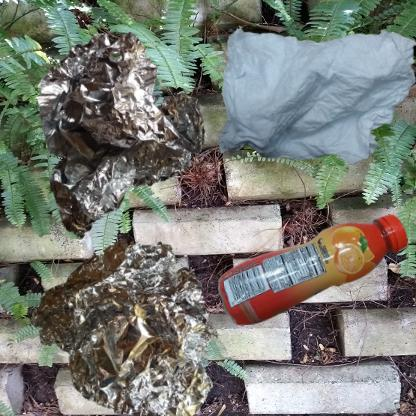aluminio: (10, 10, 240, 259), (10, 213, 256, 416)
botella: (213, 213, 416, 332)
papel: (213, 10, 416, 182)
